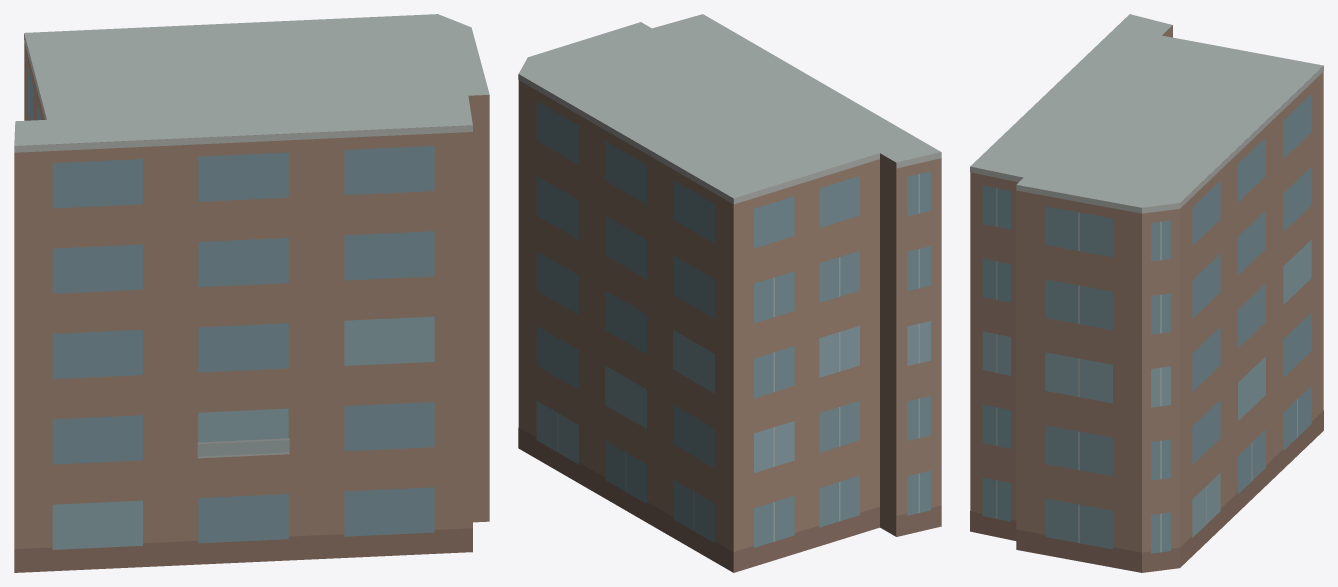
File: survey-upis-32501316.glb
3 renders of one model, left to right at view 1: azimuth 30°, elevation 25°; view 2: azimuth 150°, elevation 25°; view 3: azimuth 270°, elevation 25°, orthographic. The views are drawn at different scales.
Visible parts, largest first — view 1: survey-upis-32501316.tmp; view 2: survey-upis-32501316.tmp; view 3: survey-upis-32501316.tmp.
Part boxes in pixels (box(x1,y1,x2,y2)): survey-upis-32501316.tmp: box(14, 14, 489, 572); survey-upis-32501316.tmp: box(518, 14, 941, 572); survey-upis-32501316.tmp: box(970, 14, 1323, 572).
Bounding box in the file's own units: 17.57 × 15.42 × 13.55.
